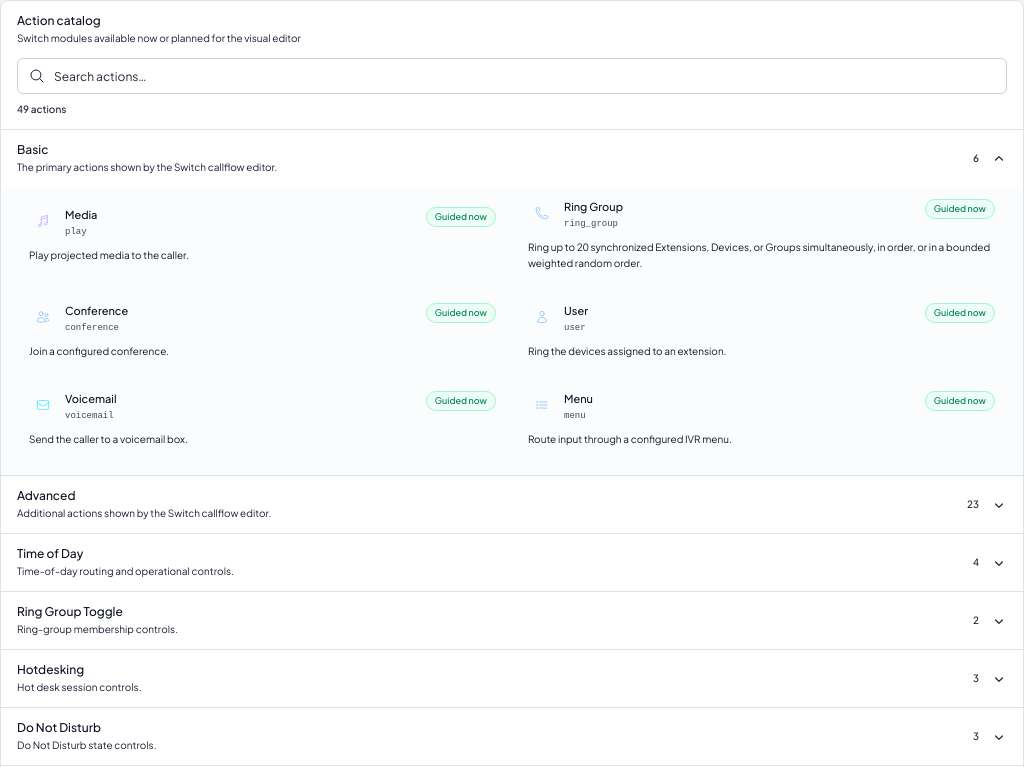
it: CallflowActionPalette › disables guided actions when the catalog is read-only
Step 1. Type "hangup" into the search field with placeholder "Search actions…" → (512, 76), box [17, 58, 1007, 94]
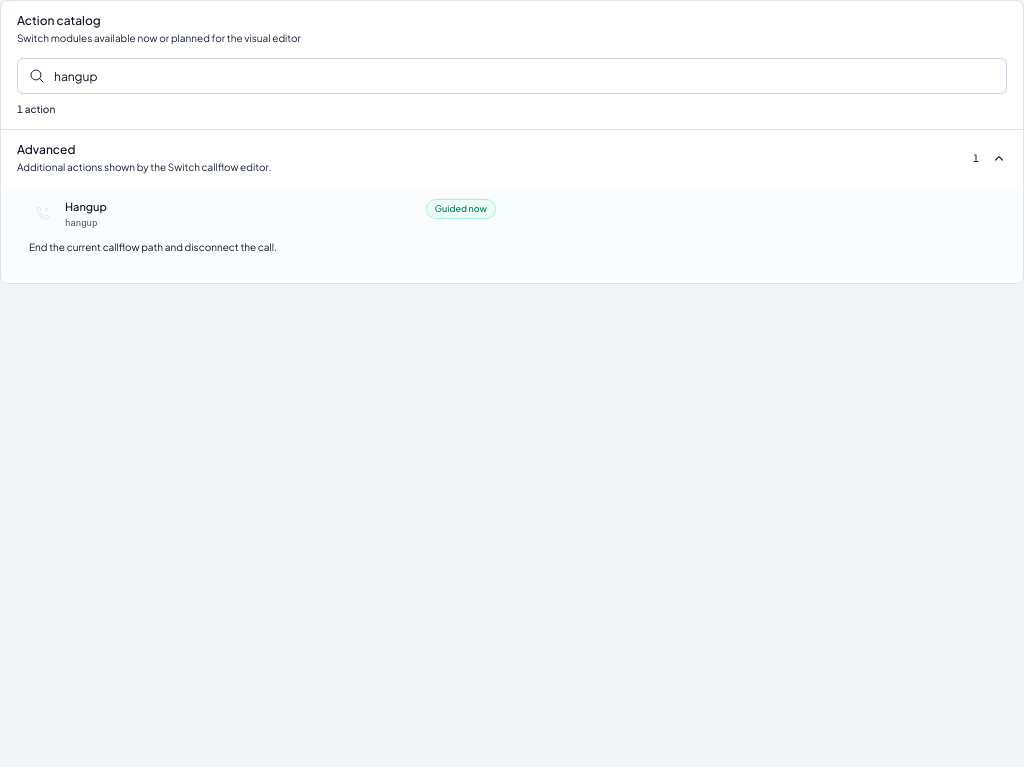
Check: the button with aria-label "Hangup unavailable in read-only mode" is disabled, box [17, 187, 508, 267]
